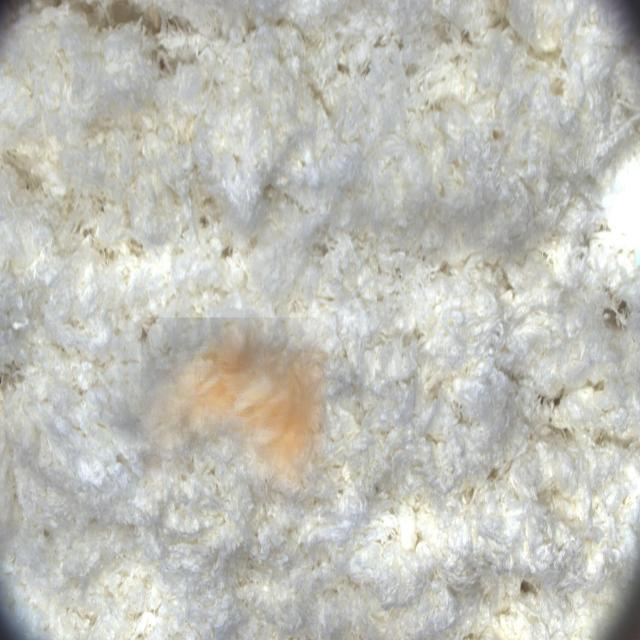dust: (141, 318, 327, 503)
